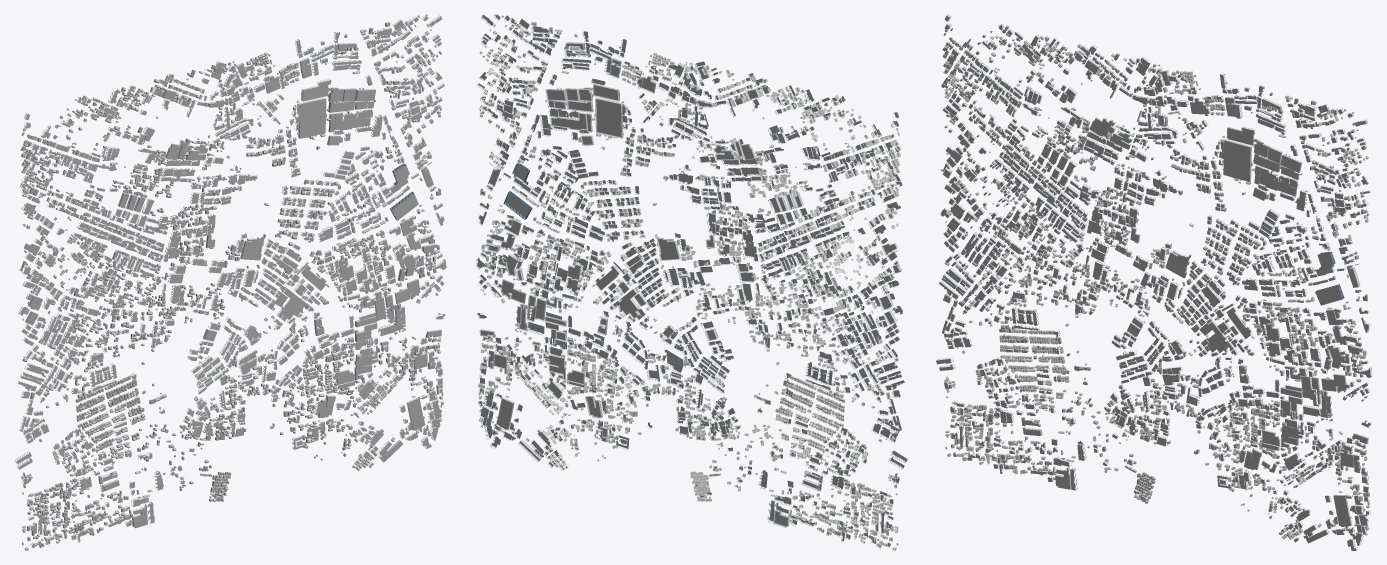
The model's file is buildings_3_2.obj.
The picture shows the model from 3 angles, left to right: view 1: azimuth 30°, elevation 25°; view 2: azimuth 150°, elevation 25°; view 3: azimuth 330°, elevation 25°; orthographic projection.
Bounding box in the file's own units: 2057 × 2049 × 28.45.
Materials: 6 (6 with a texture image).
